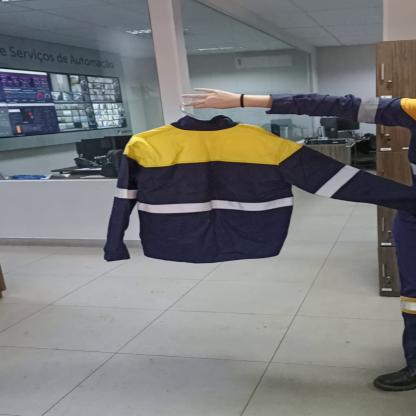C_eletrica: (106, 118, 416, 269)
